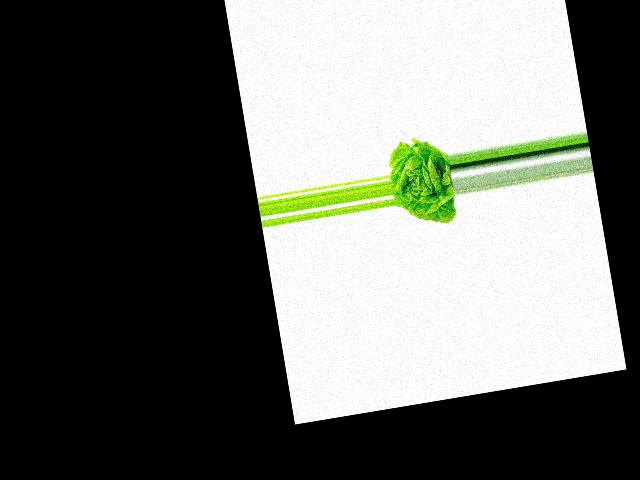lettuce: (385, 136, 460, 232)
